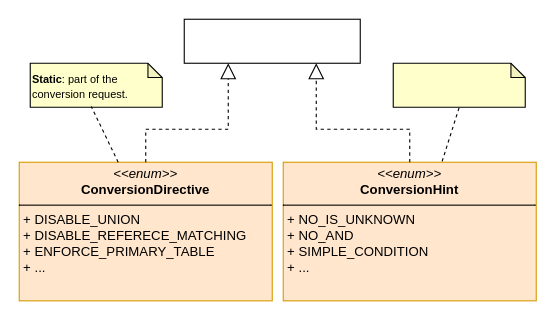
Some shapes in this 556 by 320 pixel diagram are drawn without their labels. Here are the shapes that lost their labels. From the top down, the centre of each, then its label:
At [271,40]: "<<Interface>> Flag".
At [458,84]: "Dynamic : Outcome of initial expression analysis.".
